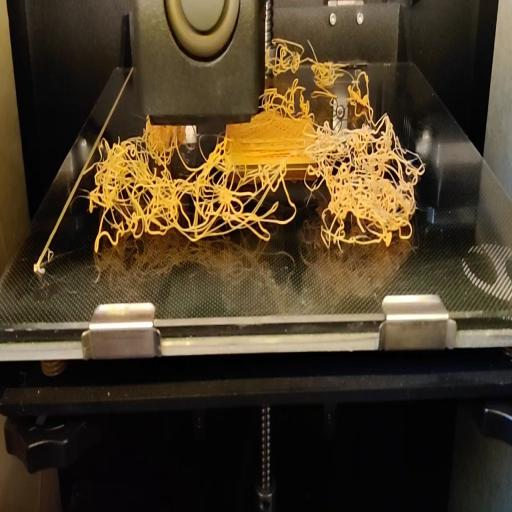spaghetti: (88, 123, 422, 257), (265, 26, 386, 126)
